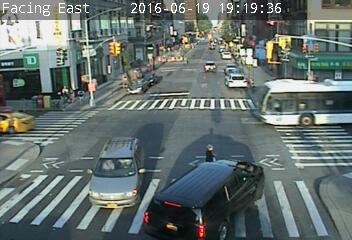neg: (144, 44, 158, 62)
pos: (201, 140, 215, 159)
